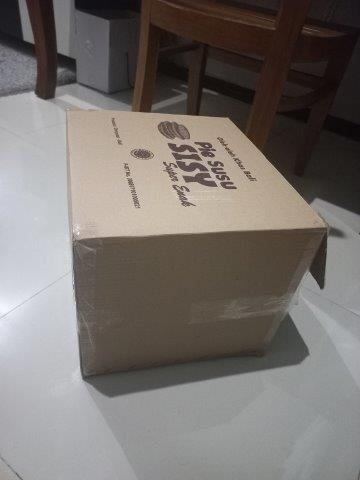kardus: (66, 109, 326, 377)
